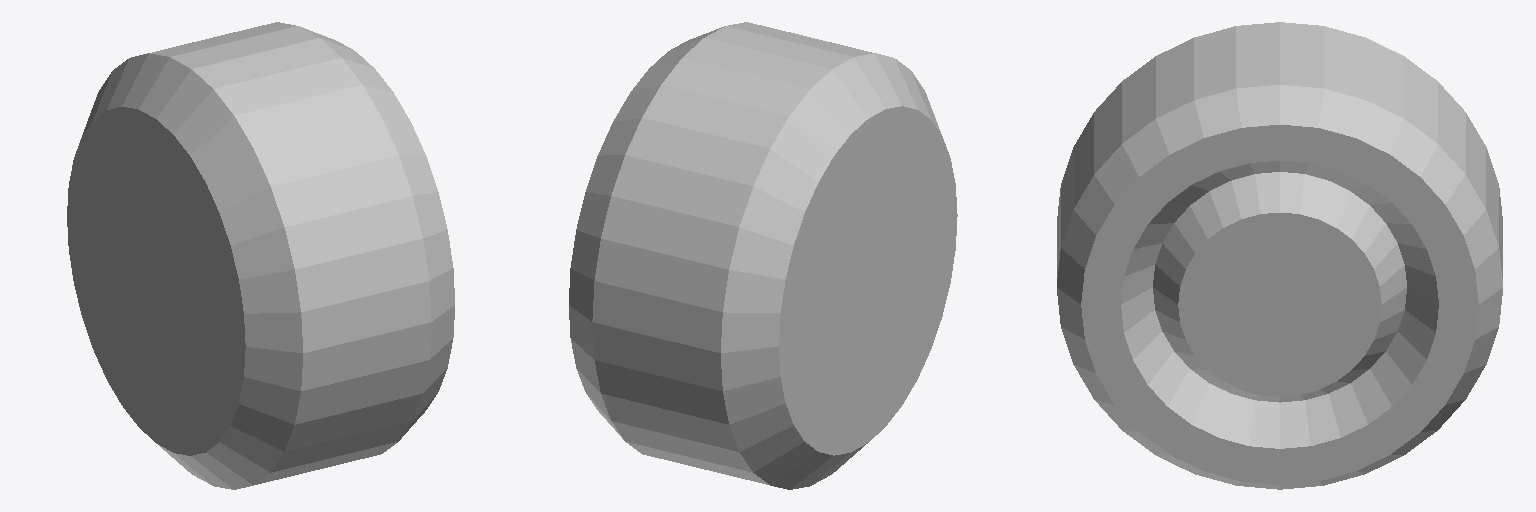
Rendered from Rwheel.obj.
3 renders of one model, left to right at view 1: azimuth 30°, elevation 25°; view 2: azimuth 150°, elevation 25°; view 3: azimuth 270°, elevation 25°, orthographic.
Visible parts, largest first — view 1: RearWheel.004_Cylinder.005; view 2: RearWheel.004_Cylinder.005; view 3: RearWheel.004_Cylinder.005.
Boxes of the visible parts, box(x1,y1,x2,y2) form: RearWheel.004_Cylinder.005: box(67, 22, 454, 489); RearWheel.004_Cylinder.005: box(569, 22, 957, 489); RearWheel.004_Cylinder.005: box(1057, 22, 1502, 489).
Bounding box in the file's own units: 0.4438 × 0.8595 × 0.8595.